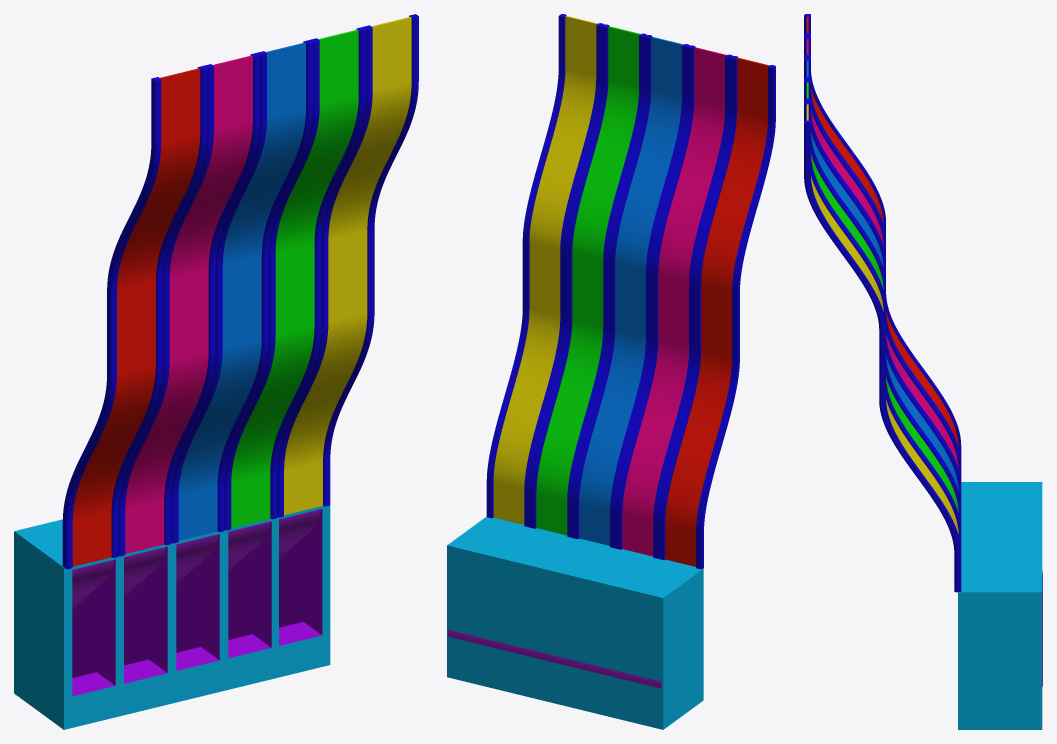
File: water-slide-with-portal-water-slide.fbx
3 renders of one model, left to right at view 1: azimuth 30°, elevation 25°; view 2: azimuth 150°, elevation 25°; view 3: azimuth 270°, elevation 25°, orthographic. The views are drawn at different scales.
Visible parts, largest first — view 1: Material_011-material, Material_010-material, Material_002-material_0, Material_002-material_1, Material_005-material, Material_004-material, Material_007-material, Material_006-material, Material_008-material, Material_002-material, Material_012-material, Material_002-material_2; view 2: Material_011-material, Material_002-material_0, Material_004-material, Material_005-material, Material_007-material, Material_006-material, Material_008-material, Material_002-material, Material_002-material_1, Material_012-material, Material_002-material_2; view 3: Material_011-material, Material_002-material, Material_002-material_0, Material_002-material_1, Material_008-material, Material_004-material, Material_006-material, Material_007-material, Material_005-material.
Part boxes in pixels (x1,y1,x2,y2): Material_011-material: (14,505,330,729); Material_010-material: (72,509,322,696); Material_002-material_0: (62,39,374,568); Material_002-material_1: (62,26,418,568); Material_005-material: (231,29,358,527); Material_004-material: (284,16,411,515); Material_007-material: (125,55,252,553); Material_006-material: (178,42,305,540); Material_008-material: (72,68,200,566); Material_002-material: (107,14,418,338); Material_012-material: (72,509,321,612); Material_002-material_2: (109,136,204,337); Material_011-material: (447,516,703,729); Material_002-material_0: (486,79,775,569); Material_004-material: (493,16,597,524); Material_005-material: (536,26,640,535); Material_007-material: (622,47,726,556); Material_006-material: (579,36,683,545); Material_008-material: (665,57,769,566); Material_002-material: (522,14,775,328); Material_002-material_1: (487,67,775,568); Material_012-material: (448,629,661,688); Material_002-material_2: (695,112,775,293); Material_011-material: (958,482,1042,729); Material_002-material: (804,14,885,369); Material_002-material_0: (804,35,961,592); Material_002-material_1: (804,84,961,592); Material_008-material: (806,17,958,446); Material_004-material: (806,104,958,534); Material_006-material: (806,60,958,490); Material_007-material: (806,38,958,468); Material_005-material: (806,82,958,512).
Bounding box in the file's own units: 1666 × 4273 × 1526.
